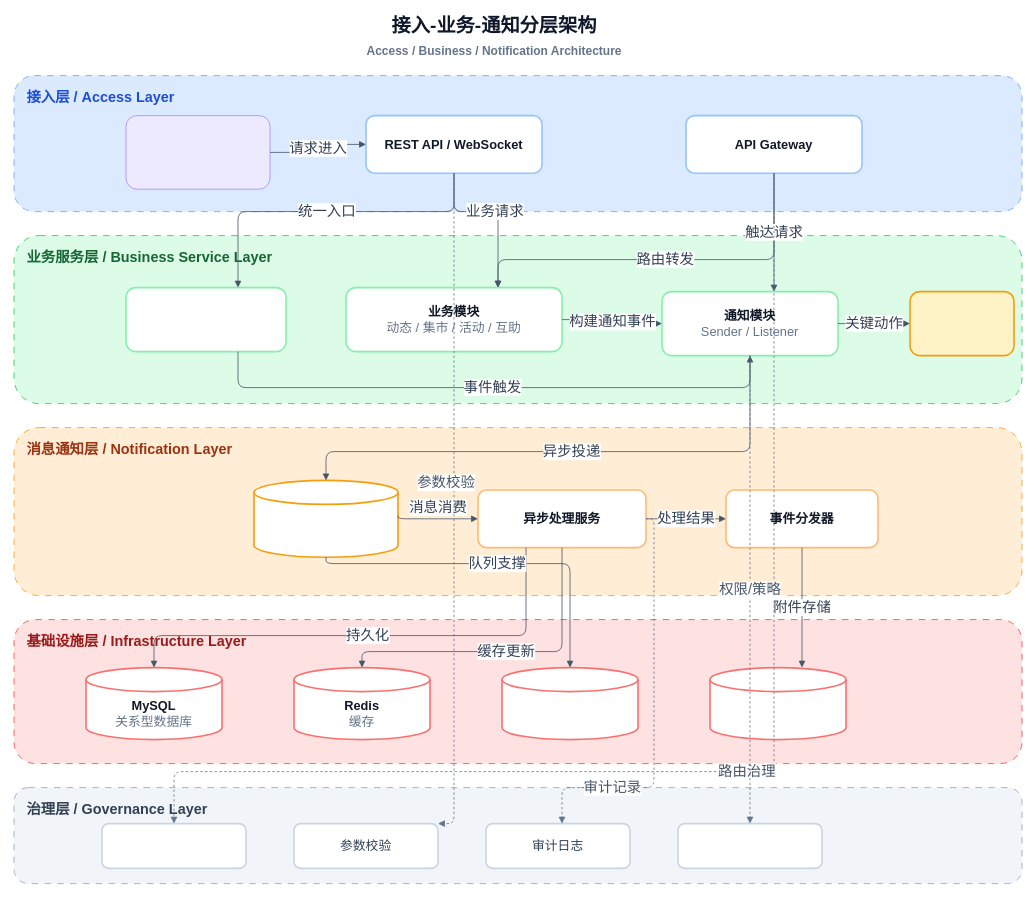
Image size: 1036x898. Some labels were removed from this diagram. Each missing label, with the centre of its shape:
"Agent 模块 接入入口" belongs at (205,319).
"API 路由白名单" belongs at (173,845).
"MinIO 对象存储" belongs at (777,703).
"RabbitMQ 消息队列" belongs at (569,703).
"事件总线 RabbitMQ" belongs at (325,518).
"关键动作 变更执行 通知事件" belongs at (961,323).
"安全管控" belongs at (749,845).
"请求类型： • 对话/工具调用 • 业务请求 • 触达请求" belongs at (197,152).
